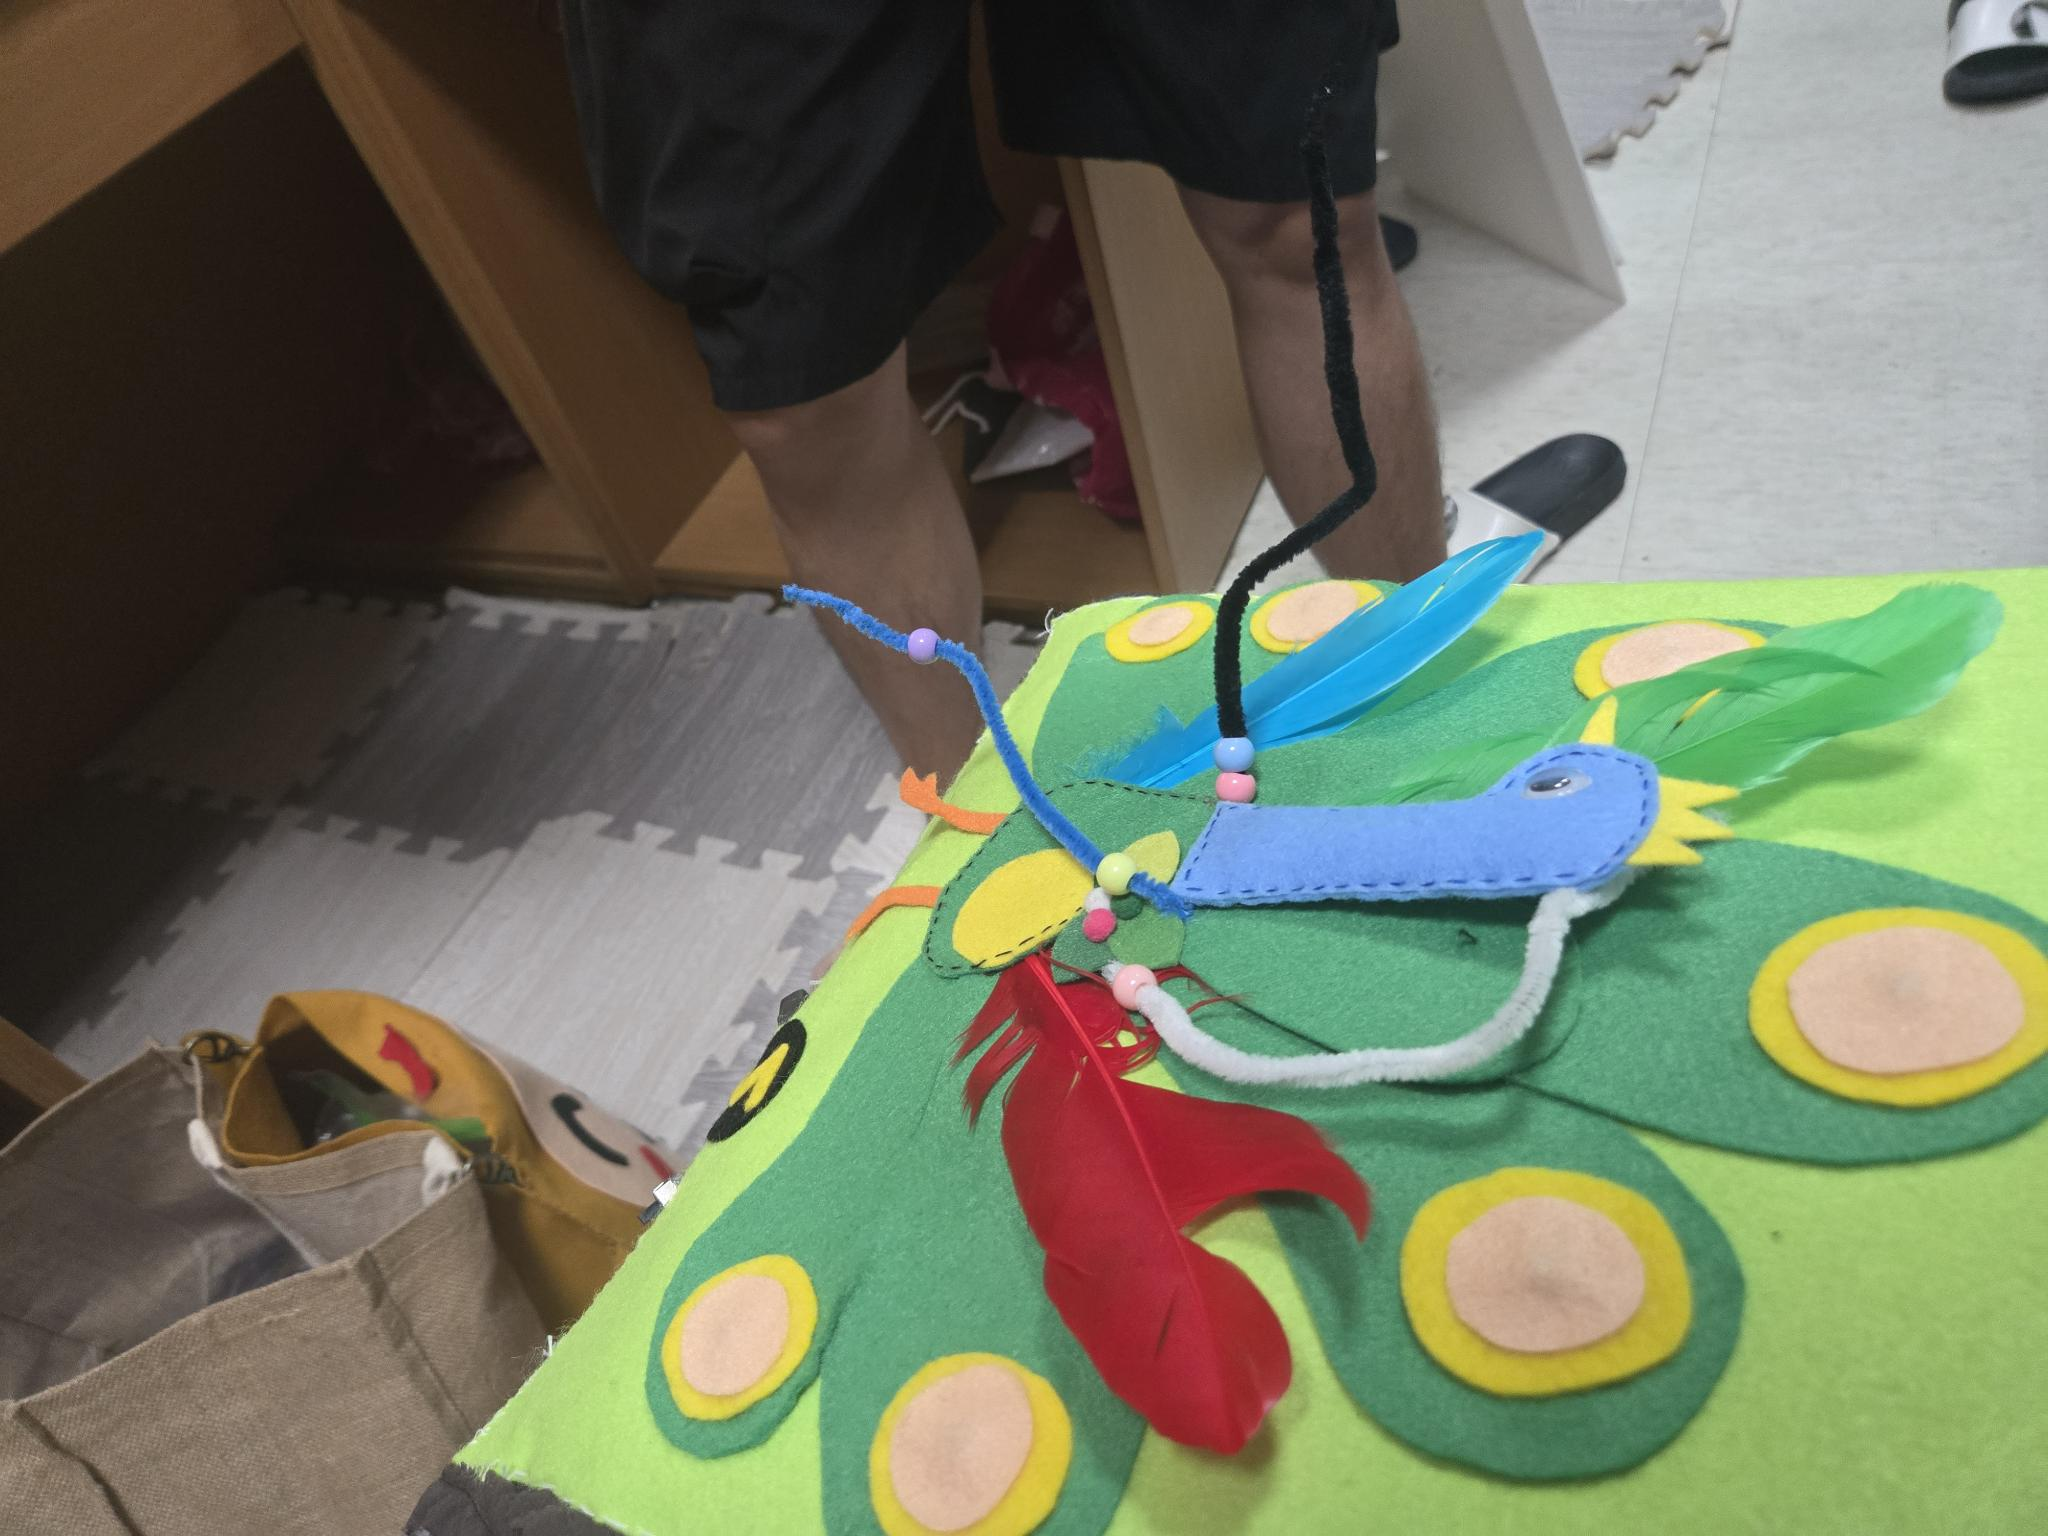bead: (1080, 852, 1143, 905), (906, 616, 945, 679), (1111, 955, 1155, 1004), (1214, 736, 1263, 774), (1214, 771, 1256, 807)
